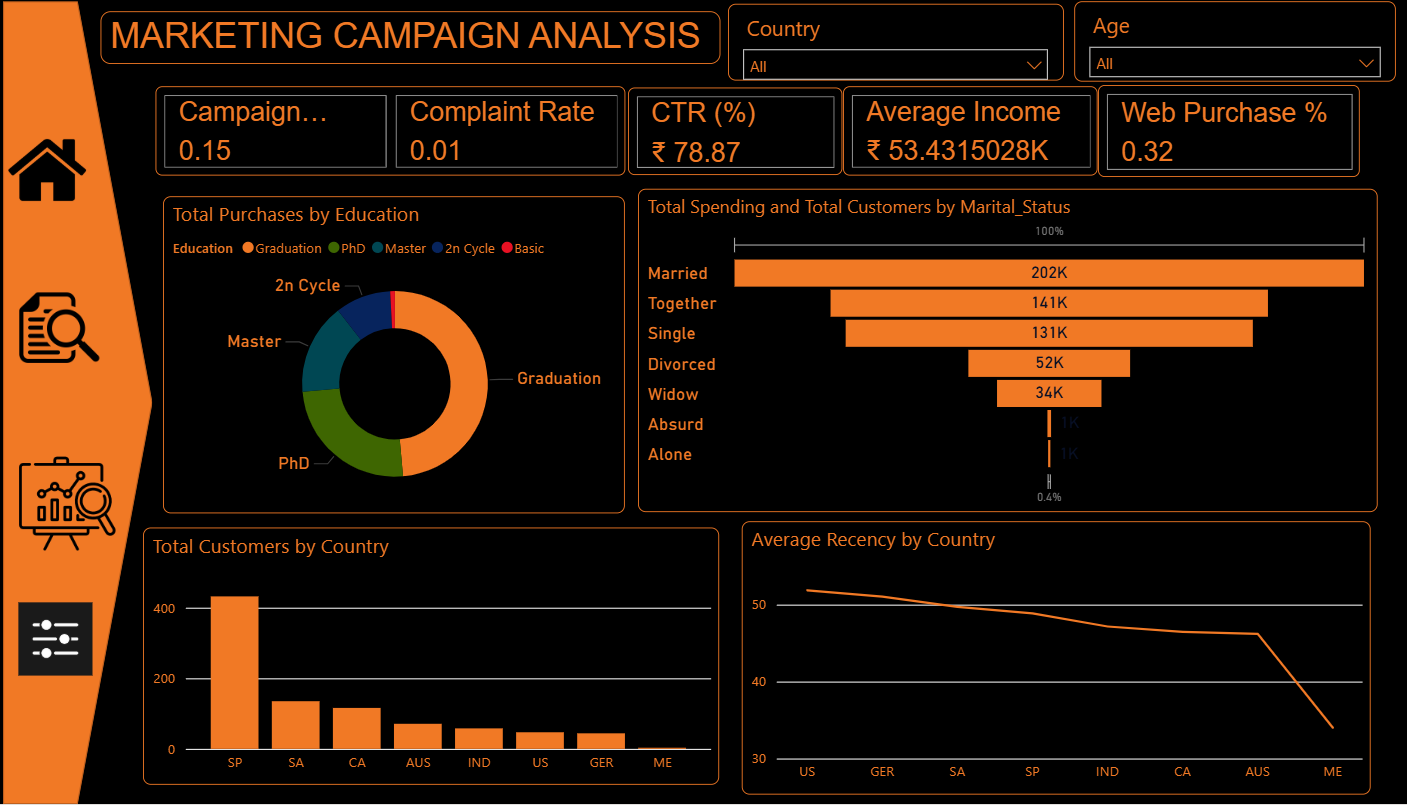

This screenshot's page, from the dashboard's own definition file:
{"tool":"powerbi","page":{"name":"Page 1","canvas":[1280,720],"ordinal":0},"visuals":[{"type":"columnChart","fields":{"Category":["marketing_data.Country"],"Y":["marketing_data.Total Customers"]},"box":[125.5,472.9,516.4,230.4],"z":1000},{"type":"donutChart","fields":{"Y":["marketing_data.Total Purchases"],"Category":["marketing_data.Education"]},"box":[143.6,175.7,413.8,284],"z":2000},{"type":"funnel","fields":{"Y":["marketing_data.Total Spending"],"Category":["marketing_data.Marital_Status"]},"box":[569,168.7,662.3,289.5],"z":3000},{"type":"lineChart","fields":{"Category":["marketing_data.Country"],"Y":["marketing_data.Average Recency"]},"box":[661.1,466.9,563.4,244.7],"z":5000},{"type":"cardVisual","fields":{"Data":["marketing_data.CTR (%)"]},"box":[559.5,78.4,191.8,78.4],"z":6000},{"type":"cardVisual","fields":{"Data":["marketing_data.Campaign Acceptance Rate","marketing_data.Complaint Rate"]},"box":[136.3,77.2,421,79.9],"z":7000},{"type":"cardVisual","fields":{"Data":["marketing_data.Average Income"]},"box":[752.3,77.5,228,79.6],"z":8000},{"type":"cardVisual","fields":{"Data":["marketing_data.Web Purchase %"]},"box":[980.8,76,234,82.8],"z":9000},{"type":"shape","box":[0,1,133.9,719],"z":9001},{"type":"image","box":[0,69,79.6,165.3],"z":9002},{"type":"textbox","title":"MARKETING CAMPAIGN ANALYSIS","box":[86.9,10.1,555,47.1],"z":9004},{"type":"image","box":[5.8,251.7,89.3,83.2],"z":9005},{"type":"image","box":[0,402.5,114.6,96.5],"z":9006},{"type":"slicer","fields":{"Values":["marketing_data.Country"]},"box":[649.8,2.9,300.4,68.8],"z":9007},{"type":"slicer","fields":{"Values":["marketing_data.Age"]},"box":[959.1,1.2,287.9,72.4],"z":9008},{"type":"image","box":[8.7,507.7,76,127.9],"z":9009}]}

Visuals, with their boxes in screenshot pixels (x1, y1, x2, y2), scaled from the page's 1280x720 canvas onto the 1407x805 screenshot:
columnChart - marketing_data.Country x marketing_data.Total Customers: [138,529,706,786]
donutChart - marketing_data.Total Purchases x marketing_data.Education: [158,196,613,514]
funnel - marketing_data.Total Spending x marketing_data.Marital_Status: [625,189,1353,512]
lineChart - marketing_data.Country x marketing_data.Average Recency: [727,522,1346,796]
cardVisual - marketing_data.CTR (%): [615,88,826,175]
cardVisual - marketing_data.Campaign Acceptance Rate x marketing_data.Complaint Rate: [150,86,613,176]
cardVisual - marketing_data.Average Income: [827,87,1078,176]
cardVisual - marketing_data.Web Purchase %: [1078,85,1335,178]
shape: [0,1,147,804]
image: [0,77,87,262]
"MARKETING CAMPAIGN ANALYSIS" textbox: [96,11,706,64]
image: [6,281,105,374]
image: [0,450,126,558]
slicer - marketing_data.Country: [714,3,1044,80]
slicer - marketing_data.Age: [1054,1,1371,82]
image: [10,568,93,711]
